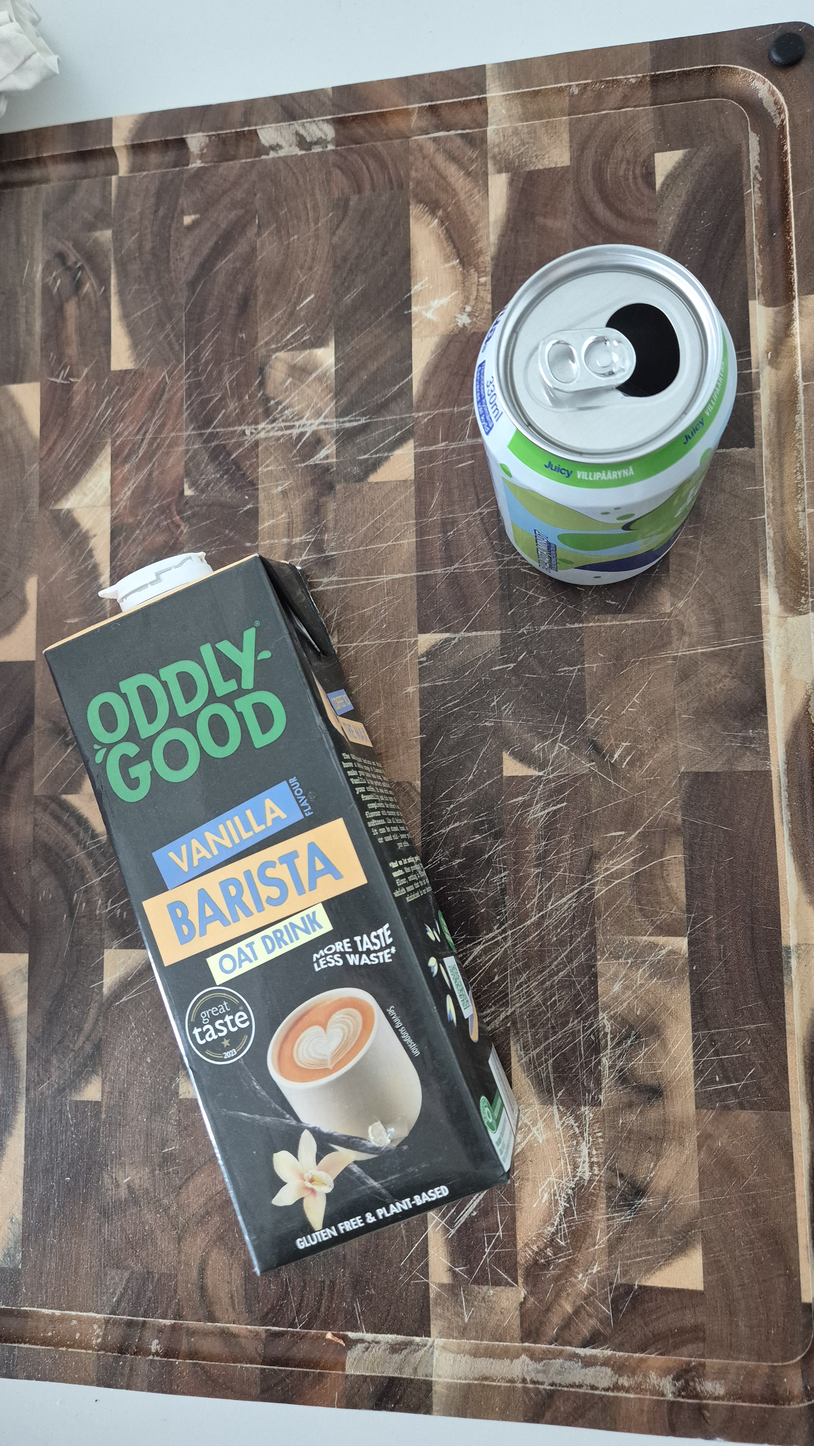Dryckeskartong: (42, 551, 520, 1275)
Pantburk: (472, 243, 737, 585)
